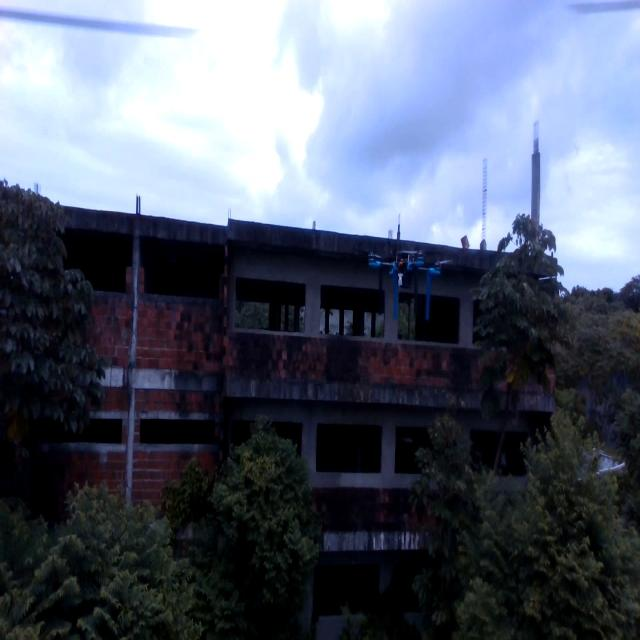-uav-: (348, 230, 464, 333)
